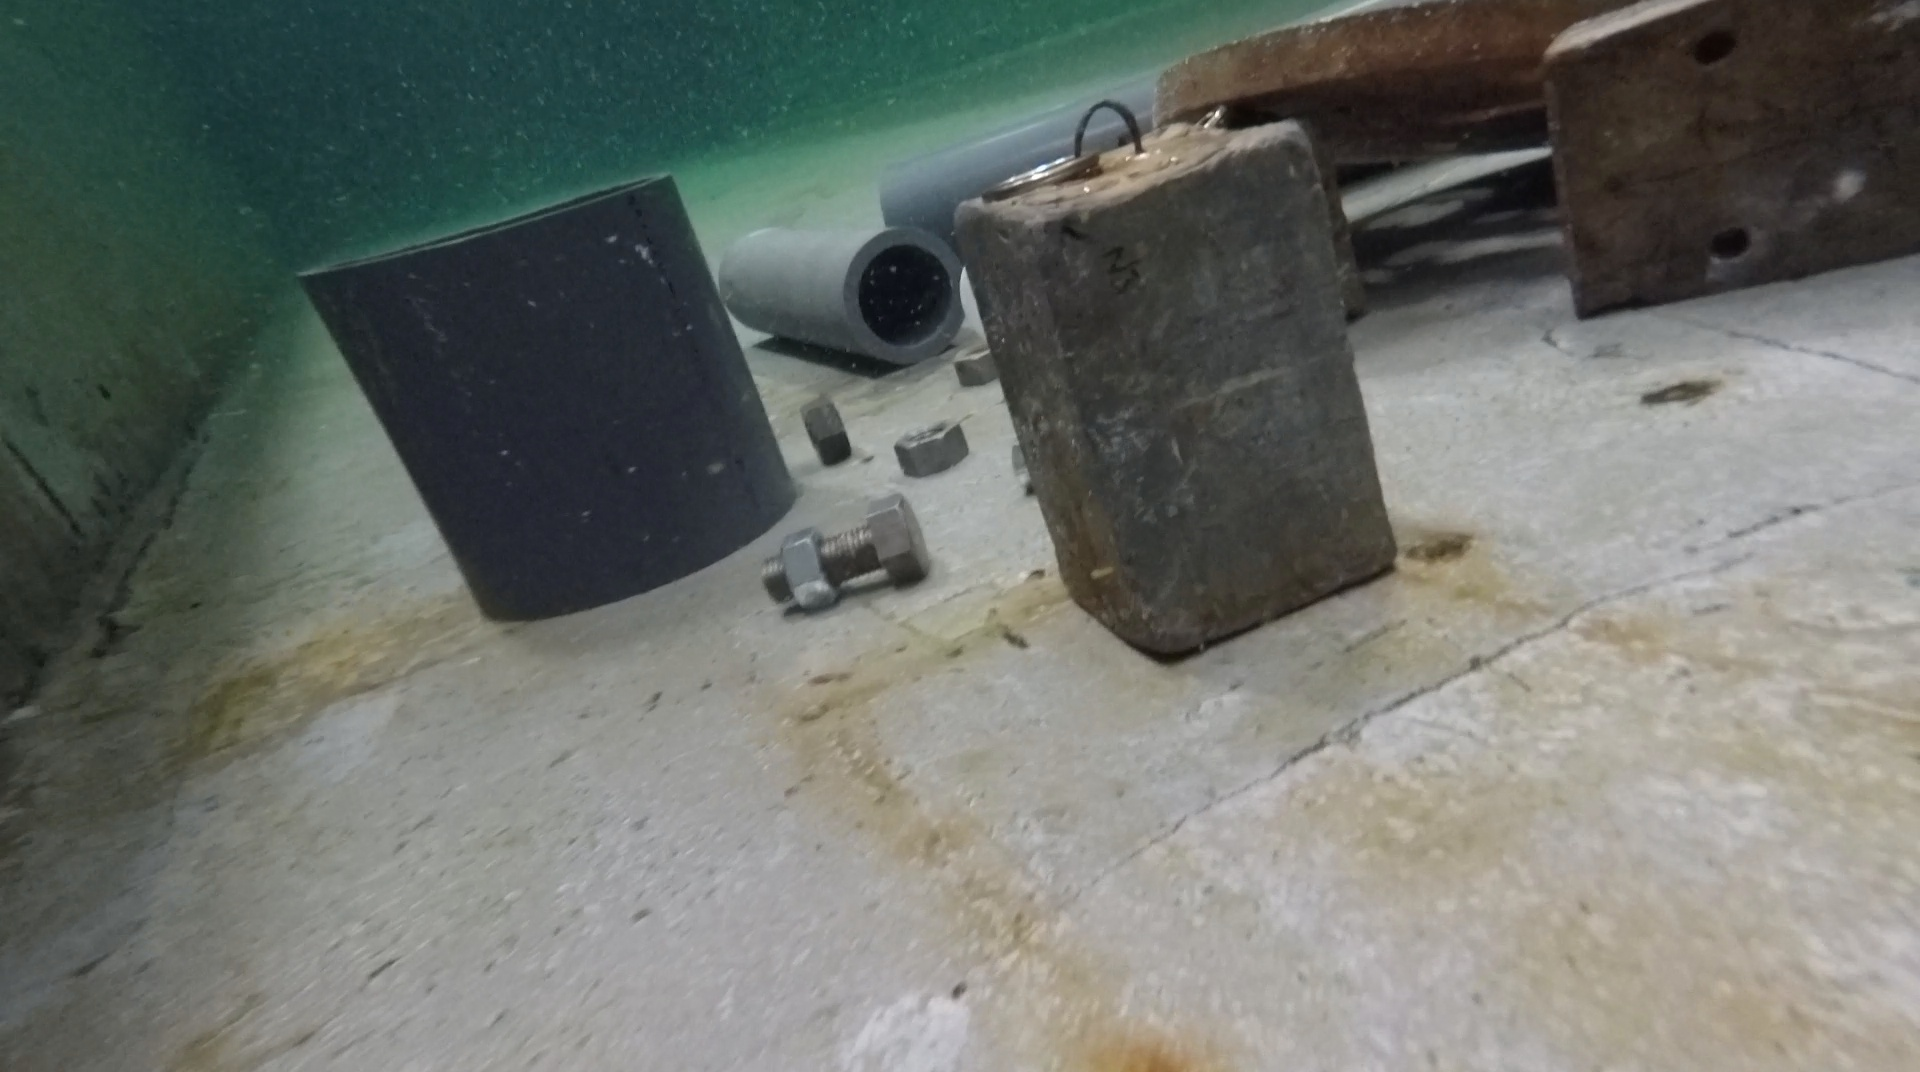bolt: (760, 487, 928, 605)
flange: (1153, 1, 1607, 121)
led_block: (952, 100, 1399, 658), (1543, 1, 1920, 318)
nut: (779, 521, 839, 614), (891, 415, 971, 479), (802, 386, 855, 467), (953, 342, 996, 386)
pipe: (295, 167, 799, 618), (877, 1, 1153, 228), (720, 225, 963, 367)
